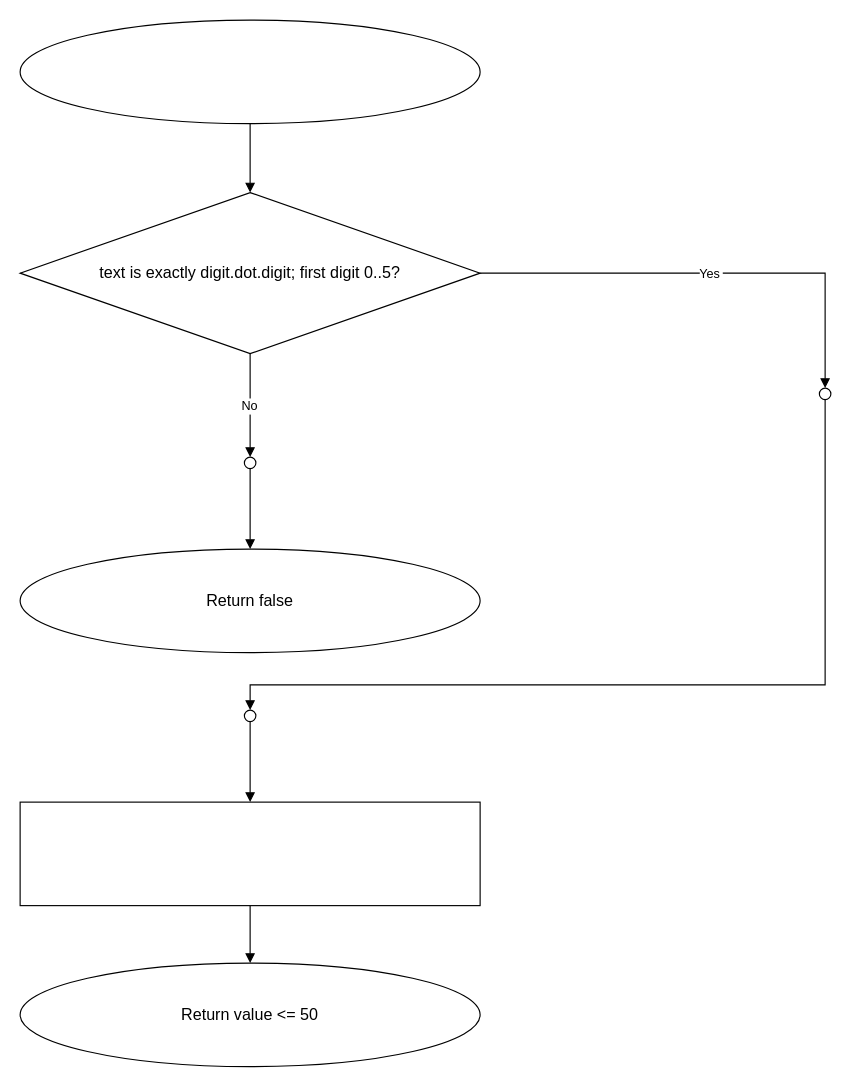
Image size: 854x1087. Some labels were removed from this diagram. Here are the shapes that lost their labels. From the top down, the centre of each, then its label:
[249,71]: Start toTenths(text, value)
[249,853]: value = (text[0]-'0')*10 + text[2]-'0'
